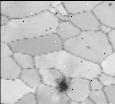good_void: (53, 74, 72, 92), (108, 1, 113, 6), (86, 44, 90, 48)
